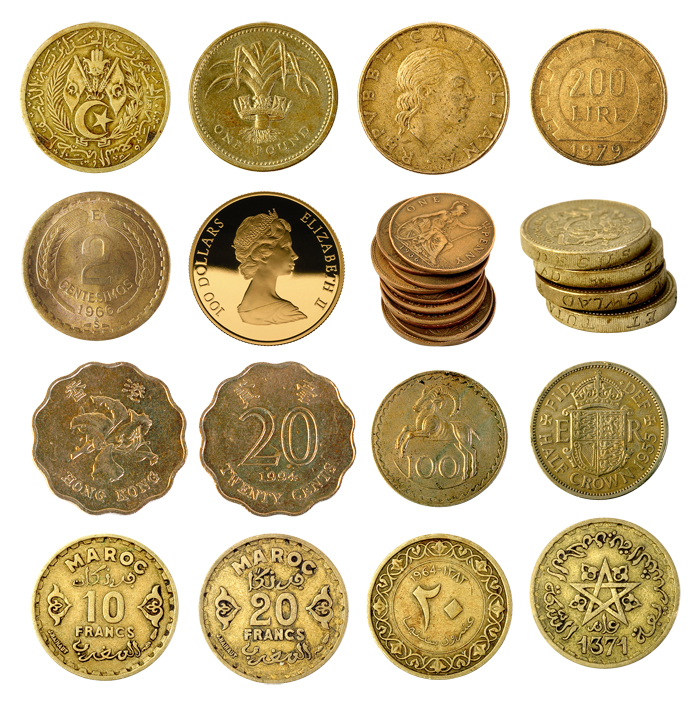coin: (199, 359, 358, 518), (31, 360, 189, 517), (188, 191, 344, 345), (528, 517, 682, 670), (357, 22, 512, 174), (198, 534, 351, 686), (20, 190, 172, 342), (189, 22, 343, 172), (22, 22, 173, 173), (31, 534, 181, 683), (367, 534, 513, 681), (529, 359, 671, 500), (370, 370, 510, 508), (529, 29, 669, 166), (520, 198, 653, 270), (388, 193, 496, 276)
